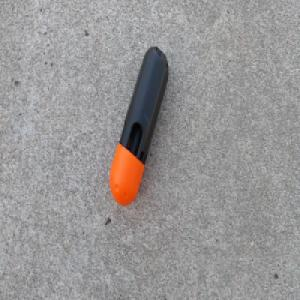PlasticPart: (108, 45, 169, 207)
